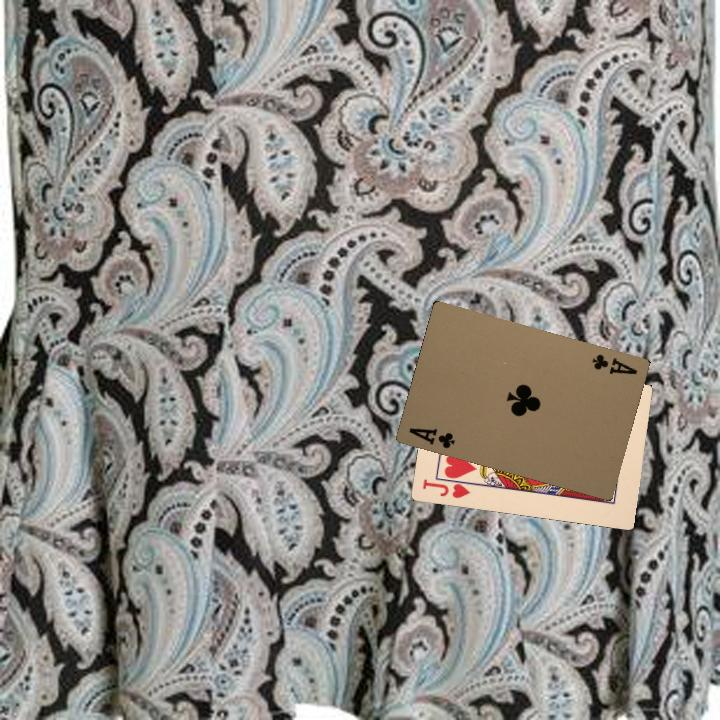Ac: (405, 424, 457, 451), (588, 350, 640, 377)
Jh: (418, 473, 474, 501)
